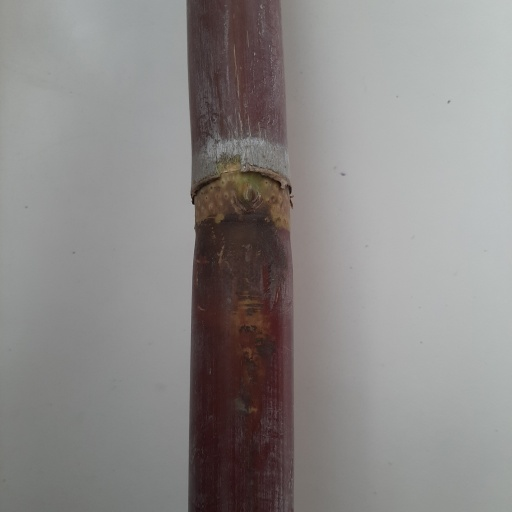Bud: (236, 180, 260, 209)
